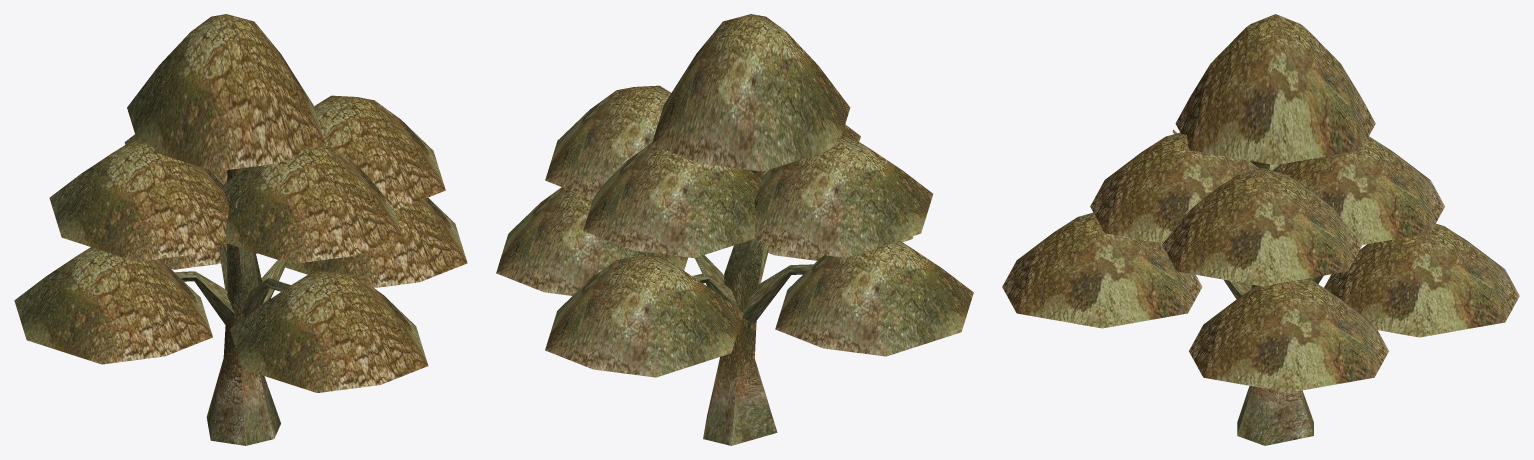
3 renders of one model, left to right at view 1: azimuth 30°, elevation 25°; view 2: azimuth 150°, elevation 25°; view 3: azimuth 270°, elevation 25°, orthographic. The views are drawn at different scales.
Visible parts, largest first — view 1: 2_Cluster3, 1_Trunk; view 2: 2_Cluster3, 1_Trunk; view 3: 2_Cluster3, 1_Trunk.
Boxes of the visible parts, x1,y1,x2,y2 form: 2_Cluster3: [14, 14, 467, 392]; 1_Trunk: [175, 167, 290, 445]; 2_Cluster3: [496, 14, 973, 377]; 1_Trunk: [692, 125, 845, 445]; 2_Cluster3: [1002, 14, 1519, 392]; 1_Trunk: [1172, 129, 1323, 445].
Size of the model in its own units: 137 by 124 by 142.
1 material, 1 textured.
